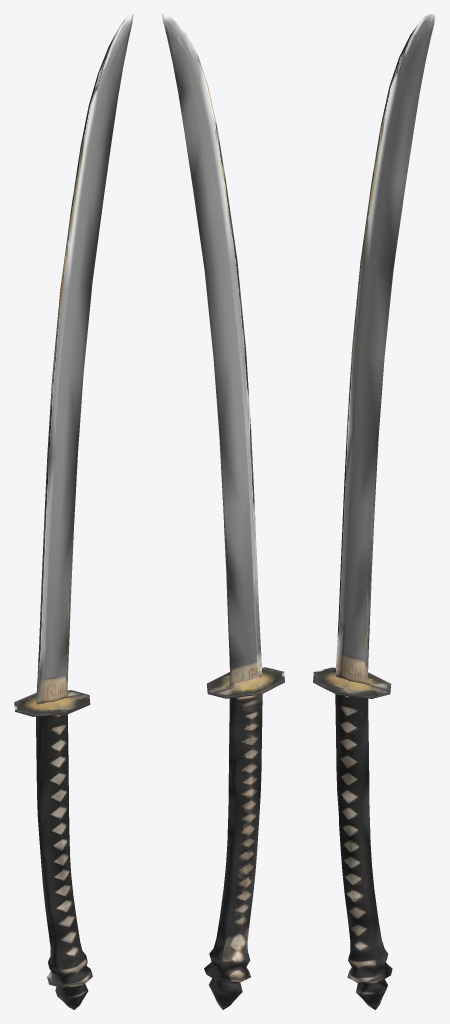
The model's file is katana.glb.
The picture shows the model from 3 angles, left to right: view 1: azimuth 30°, elevation 25°; view 2: azimuth 210°, elevation 25°; view 3: azimuth 330°, elevation 25°; orthographic projection. The views are drawn at different scales.
Visible parts, largest first — view 1: Mesh_0.001; view 2: Mesh_0.001; view 3: Mesh_0.001.
Boxes of the visible parts, box(x1,y1,x2,y2) form: Mesh_0.001: box(14, 14, 133, 1009); Mesh_0.001: box(162, 14, 284, 1009); Mesh_0.001: box(313, 14, 435, 1009).
Bounding box in the file's own units: 0.1265 × 1 × 0.0541.
1 material, 1 textured.
